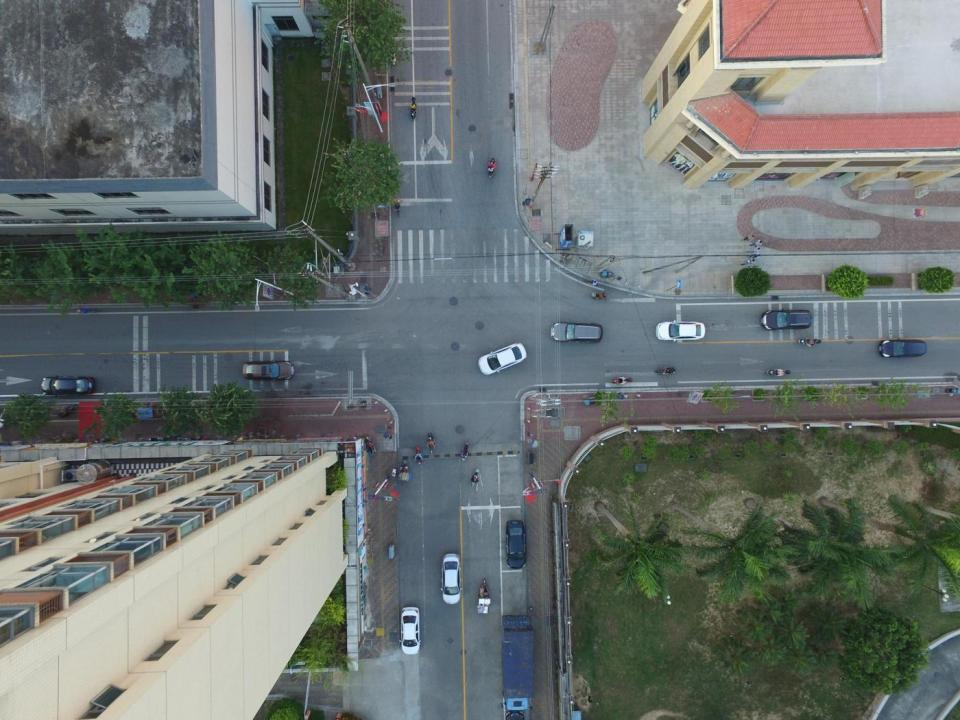car: (478, 342, 527, 375), (550, 320, 603, 346), (39, 373, 95, 397), (654, 318, 706, 343), (241, 358, 295, 382), (439, 552, 463, 605), (761, 308, 811, 332), (505, 519, 527, 570), (398, 606, 421, 654), (879, 336, 928, 358)
truck: (500, 614, 534, 712)
